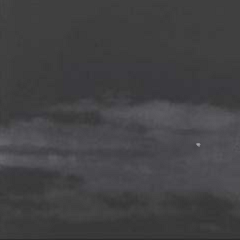Target: (195, 142, 201, 147)
